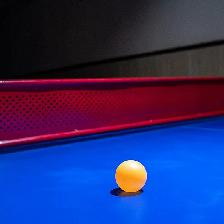YellowBall: (114, 159, 147, 192)
